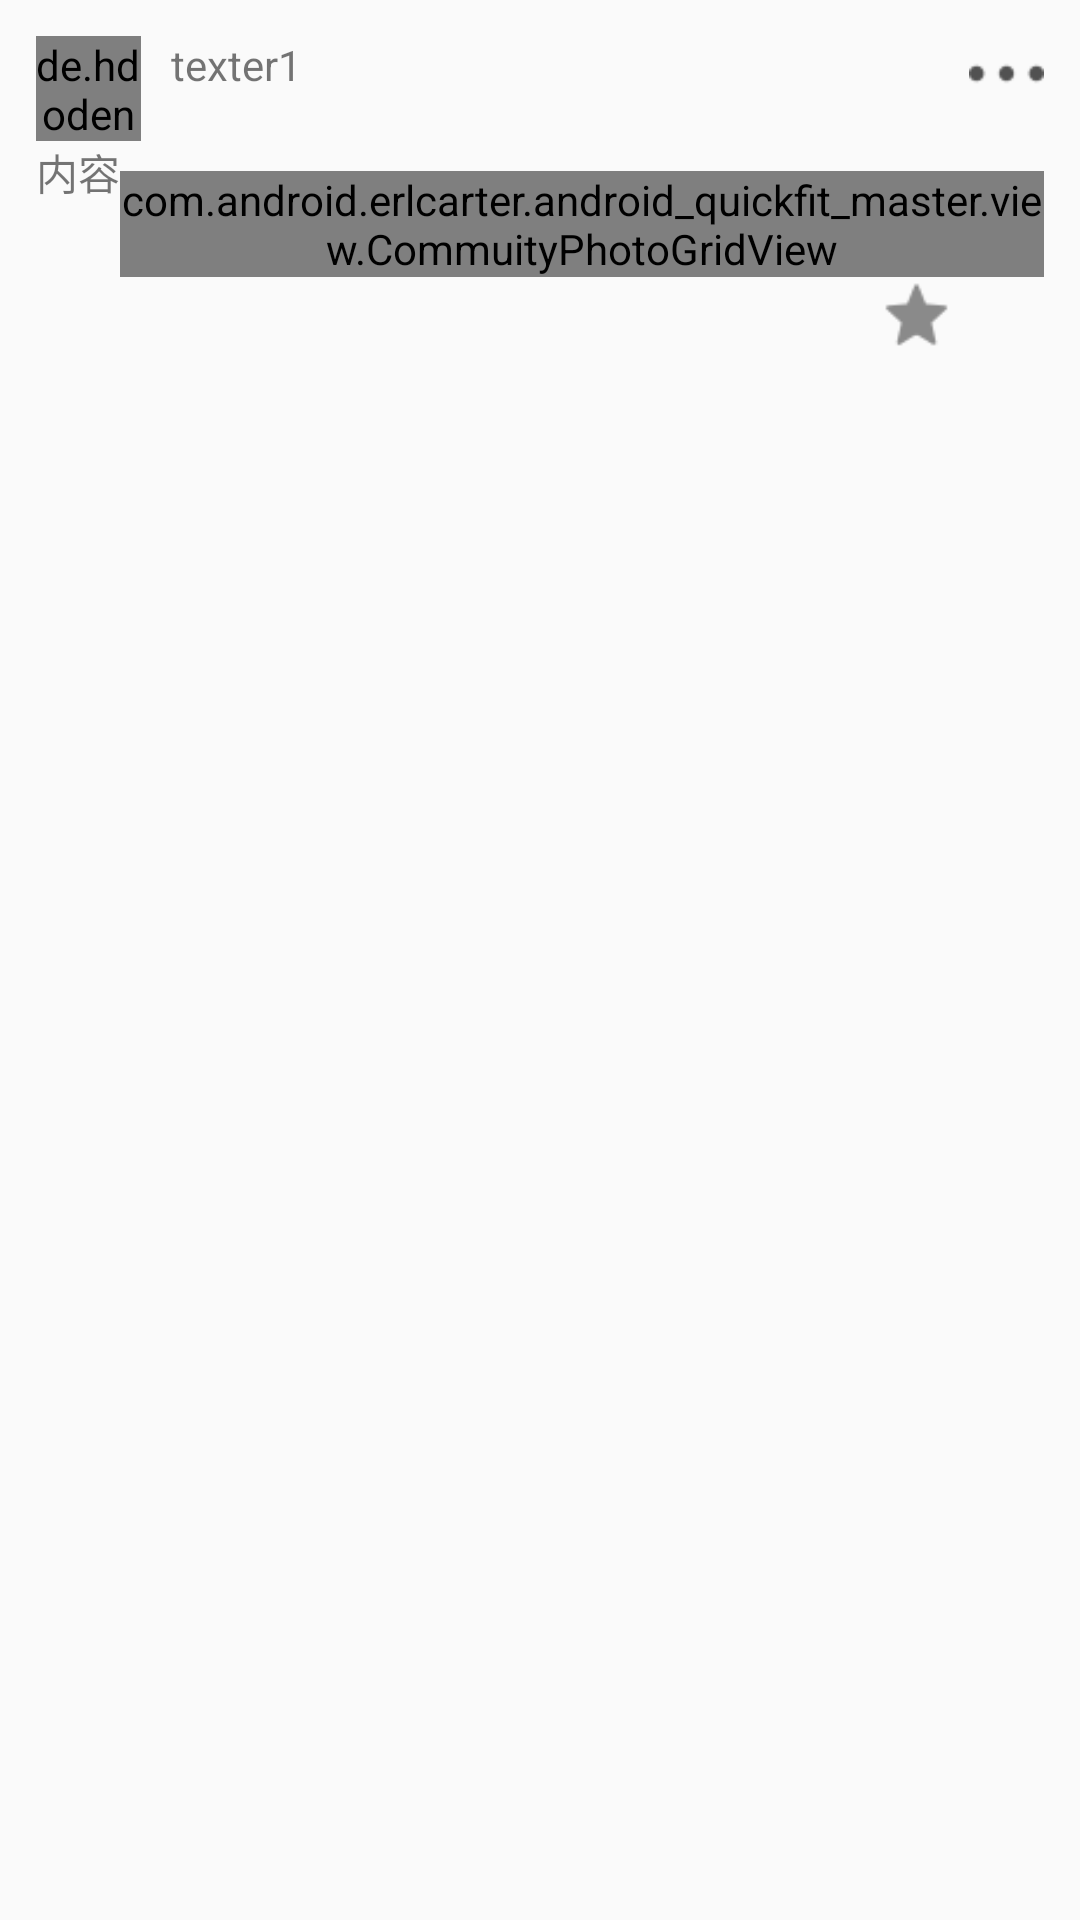

Icons on this 1080px×1920px Android screen, each with the point to tap as (x=x, y=y):
choice item more: (x=1006, y=73)
storeup: (x=916, y=315)
